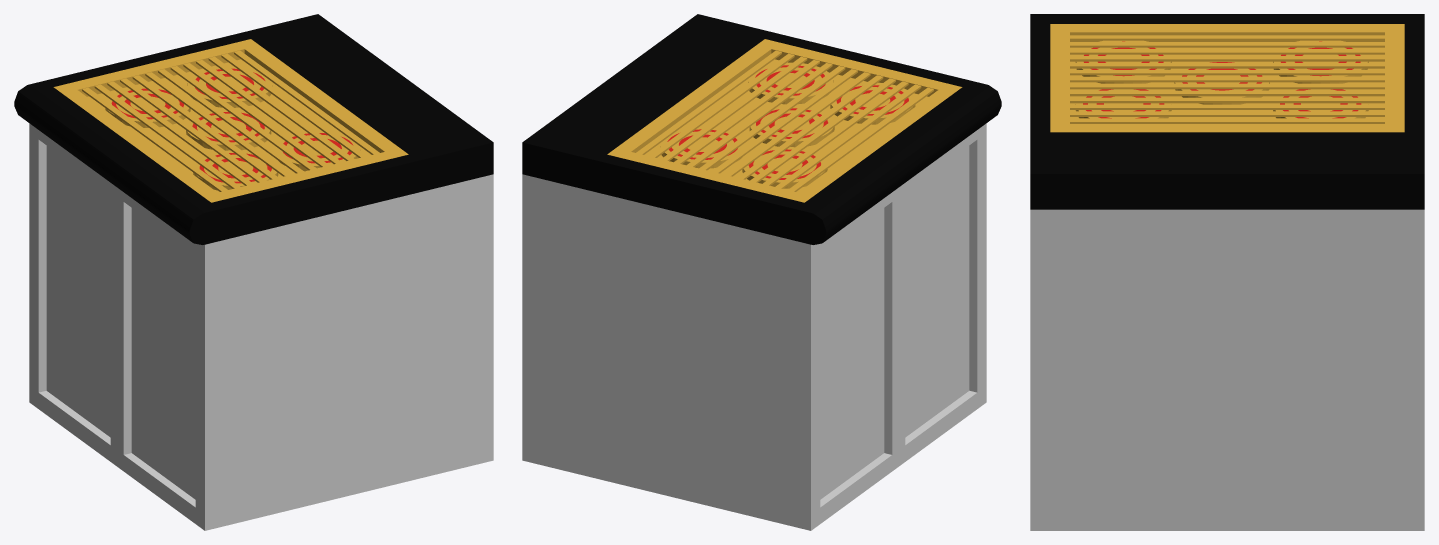
The model's file is stovecounter.fbx.
The picture shows the model from 3 angles, left to right: view 1: azimuth 30°, elevation 25°; view 2: azimuth 150°, elevation 25°; view 3: azimuth 270°, elevation 25°; orthographic projection. The views are drawn at different scales.
Parts seen in each view (by area): view 1: Cube; view 2: Cube; view 3: Cube.
Part boxes in pixels (x1,y1,x2,y2): Cube: (14, 14, 493, 530); Cube: (522, 14, 1001, 530); Cube: (1030, 14, 1424, 530).
Size of the model in its own units: 200 by 200 by 200.
